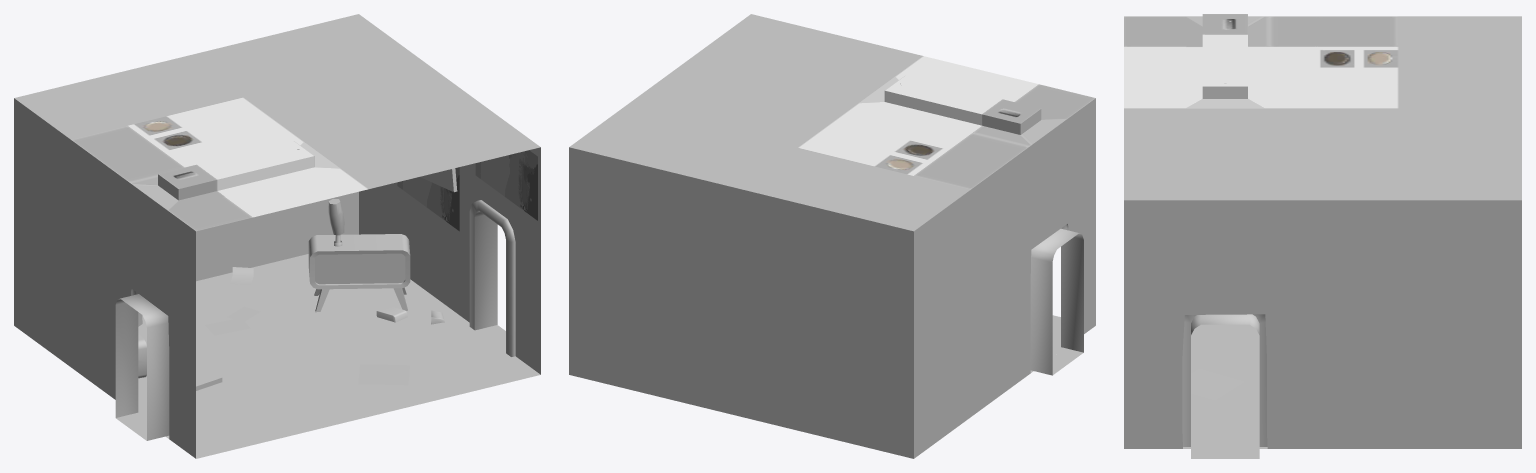
File: MSH_QuestIndustrial_L3_R1_optimized.fbx
3 views of the same model, side by side, from view 1: azimuth 30°, elevation 25°; view 2: azimuth 150°, elevation 25°; view 3: azimuth 270°, elevation 25° (orthographic). The views are drawn at different scales.
Parts seen in each view (by area): view 1: lightmap0, lightmap1, MSH_QuestIndustrial_L3_R1_Dirt_01, MSH_QuestIndustrial_L3_R1_papers_01; view 2: lightmap0, lightmap1; view 3: lightmap0, lightmap1, MSH_QuestIndustrial_L3_R1_papers_01.
Part boxes in pixels (bbox=[...]): lightmap0: bbox=[14, 14, 540, 458]; lightmap1: bbox=[115, 211, 540, 458]; MSH_QuestIndustrial_L3_R1_Dirt_01: bbox=[397, 150, 537, 231]; MSH_QuestIndustrial_L3_R1_papers_01: bbox=[205, 267, 409, 385]; lightmap0: bbox=[569, 14, 1095, 458]; lightmap1: bbox=[1030, 228, 1083, 375]; lightmap0: bbox=[1124, 14, 1521, 448]; lightmap1: bbox=[1183, 314, 1267, 458]; MSH_QuestIndustrial_L3_R1_papers_01: bbox=[1191, 368, 1244, 400].
Bounding box in the file's own units: 10.3 × 6.21 × 8.51.
